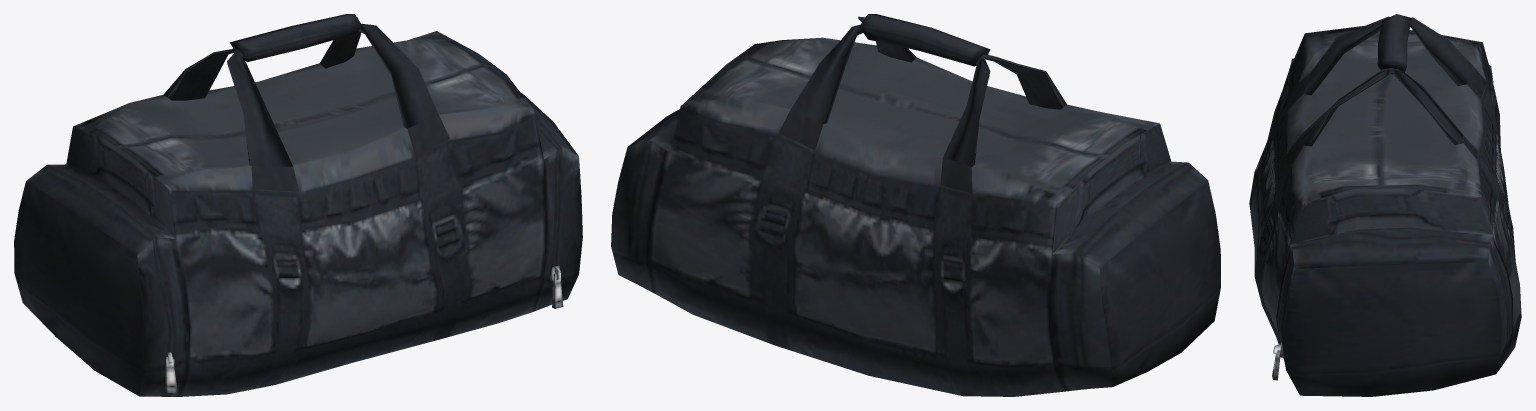
File: Duffle Bag.obj
3 renders of one model, left to right at view 1: azimuth 30°, elevation 25°; view 2: azimuth 150°, elevation 25°; view 3: azimuth 270°, elevation 25°, orthographic. The views are drawn at different scales.
Bounding box in the file's own units: 0.6196 × 0.3638 × 0.3354.
Materials: 1 (1 with a texture image).
